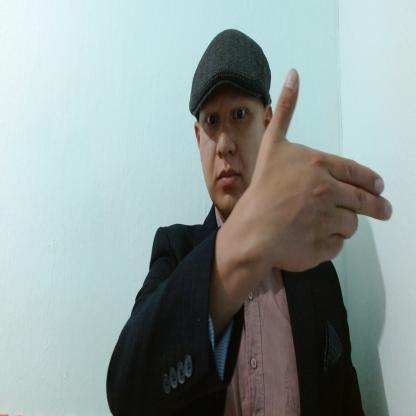H: (250, 69, 392, 273)
